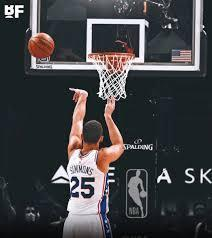ball: (28, 32, 55, 58)
human: (63, 87, 124, 238)
rim: (89, 52, 135, 100)
